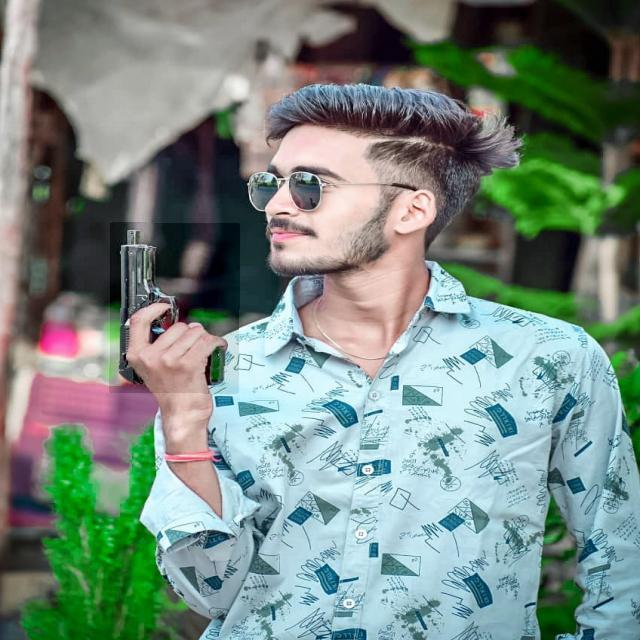handgun: (110, 222, 240, 394)
